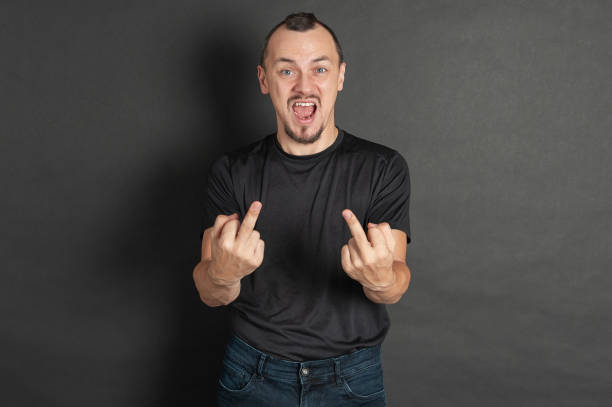insulting_gesture: (198, 200, 265, 292), (339, 205, 397, 291)
